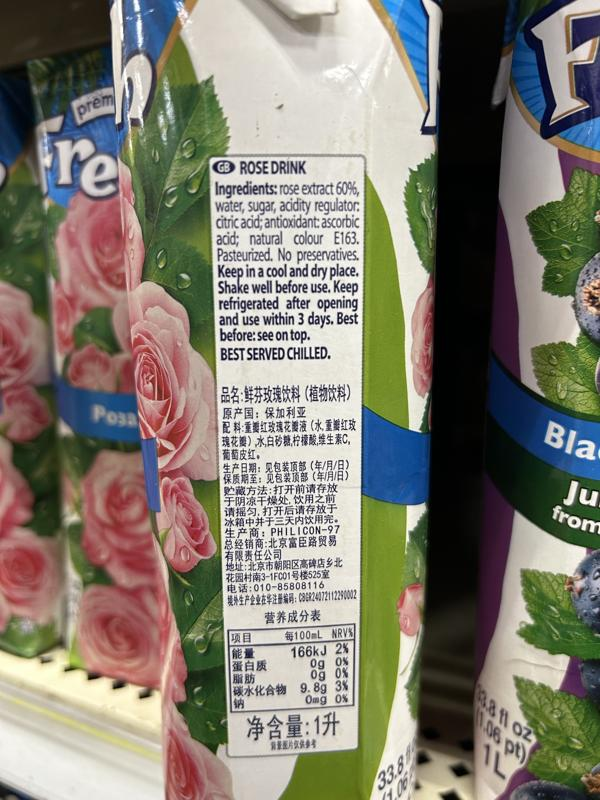ingredients: (212, 180, 363, 247)
